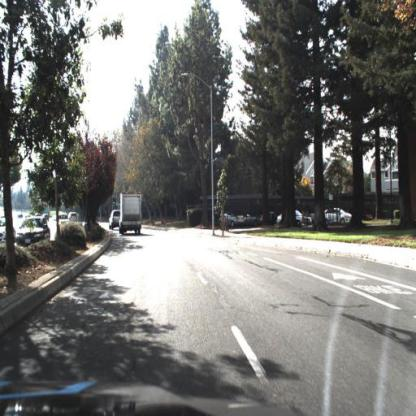car: (324, 204, 364, 234), (17, 218, 52, 249), (280, 208, 321, 234), (319, 205, 354, 232), (219, 207, 248, 234), (226, 208, 255, 234), (249, 208, 272, 233), (108, 209, 124, 235), (57, 210, 71, 233)
truck: (116, 189, 145, 238)
